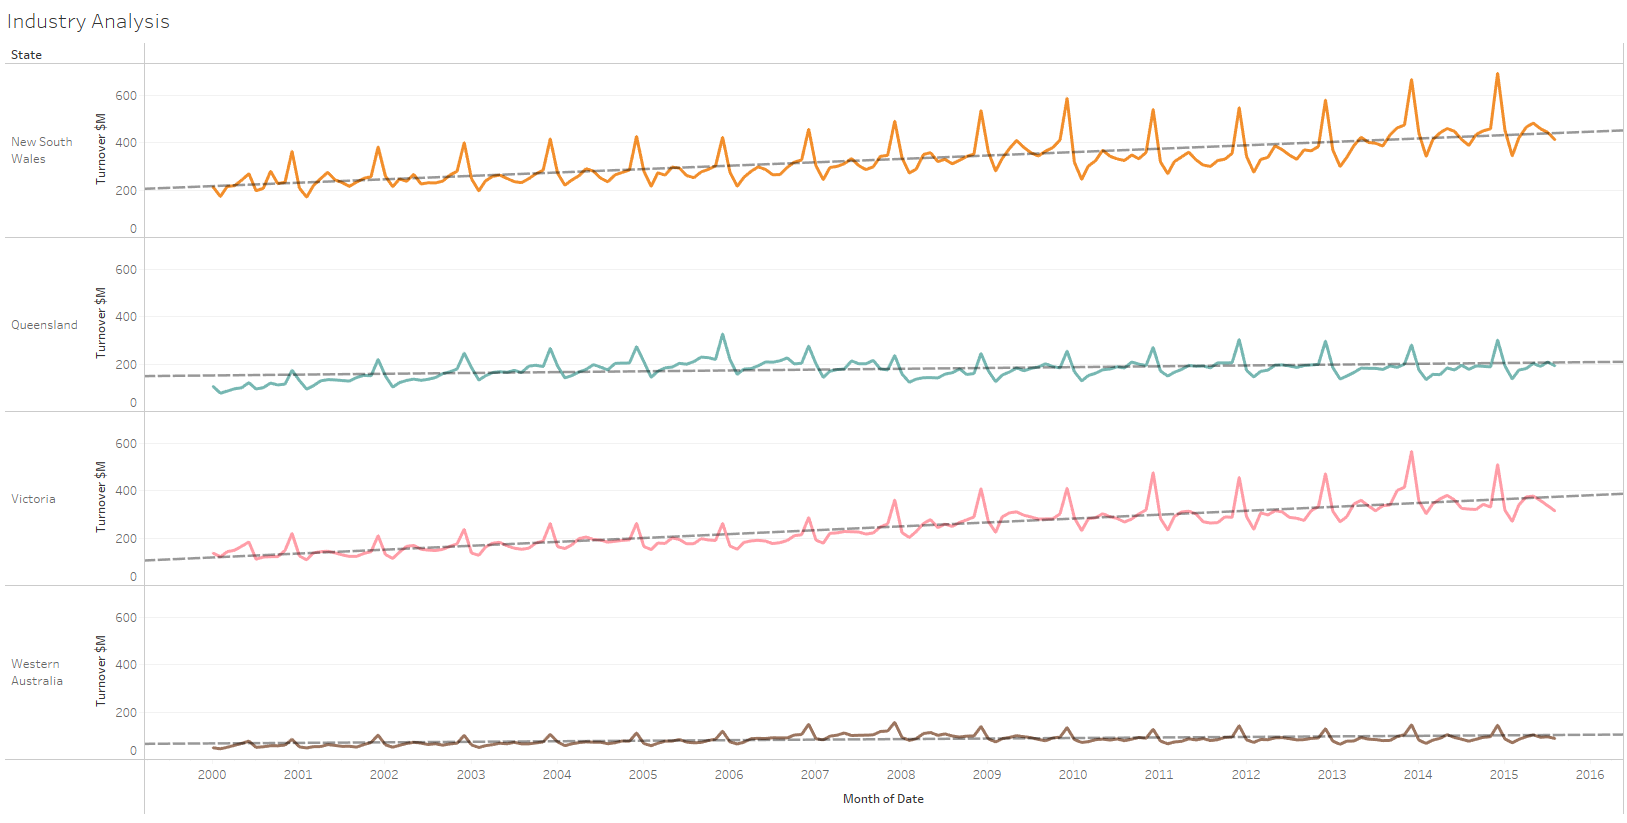

What the dashboard file says about the page in this screenshot:
{"tool":"tableau","page":{"name":"Industry D","canvas":[1000,1000],"units":"permille","ordinal":1},"visuals":[{"type":"text","box":[8,10,984,68.8]},{"type":"worksheet","title":"Industry Analysis","mark":"Automatic","rows":["Pivot Field Names - Split 1","Pivot Field Values"],"cols":["F1"],"box":[8,78.8,984,911.2]}]}

Visuals, with their boxes on the dashboard's canvas, which has no fixed pixel size, in thousandths of its width and height (x1, y1, x2, y2). These are canvas units, not pixel positions in the 1627x823 screenshot, which may show the page scaled, cropped or inside an application window:
text: bbox(8, 10, 992, 79)
"Industry Analysis" worksheet: bbox(8, 79, 992, 990)
